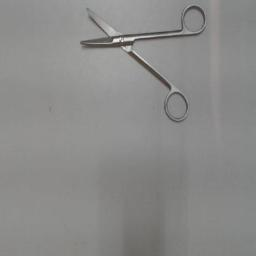Curved Mayo Scissors: (75, 2, 211, 130)
